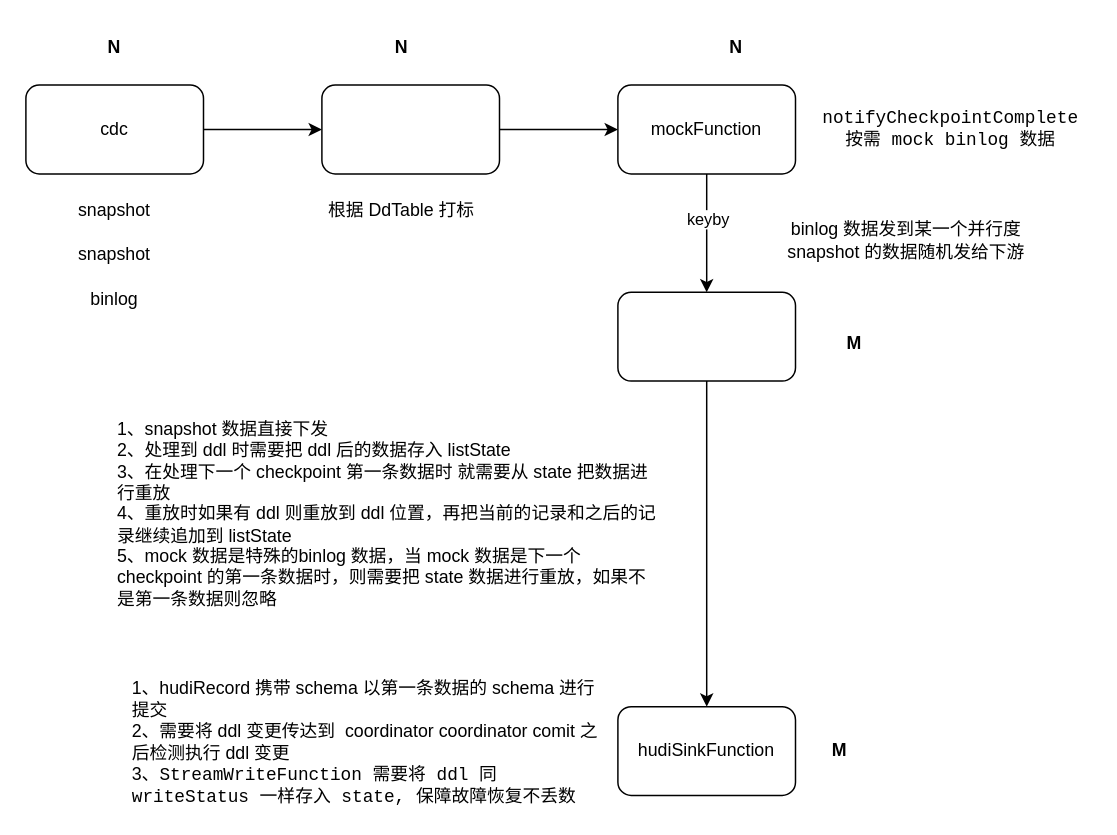
Image size: 1117x835. Some labels were removed from this diagram. Here are the shapes that lost their labels. From the top down, the centre of each, then its label:
At point (410, 129): "tagFunction".
At point (706, 336): "ddlSplitFunction".
